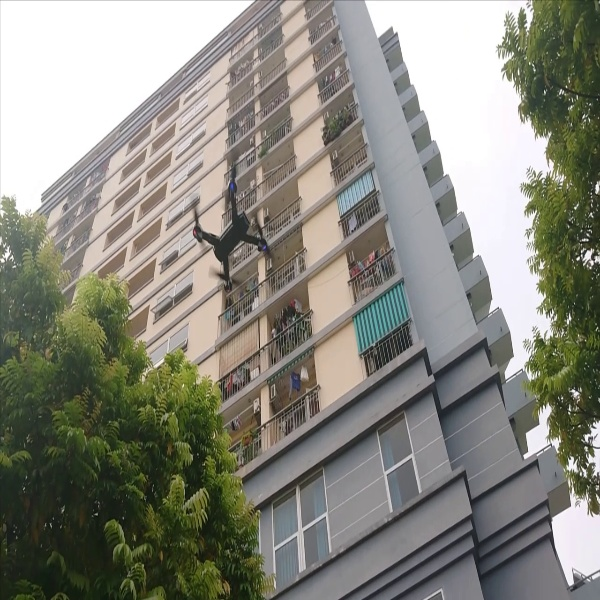drone: (183, 159, 283, 293)
